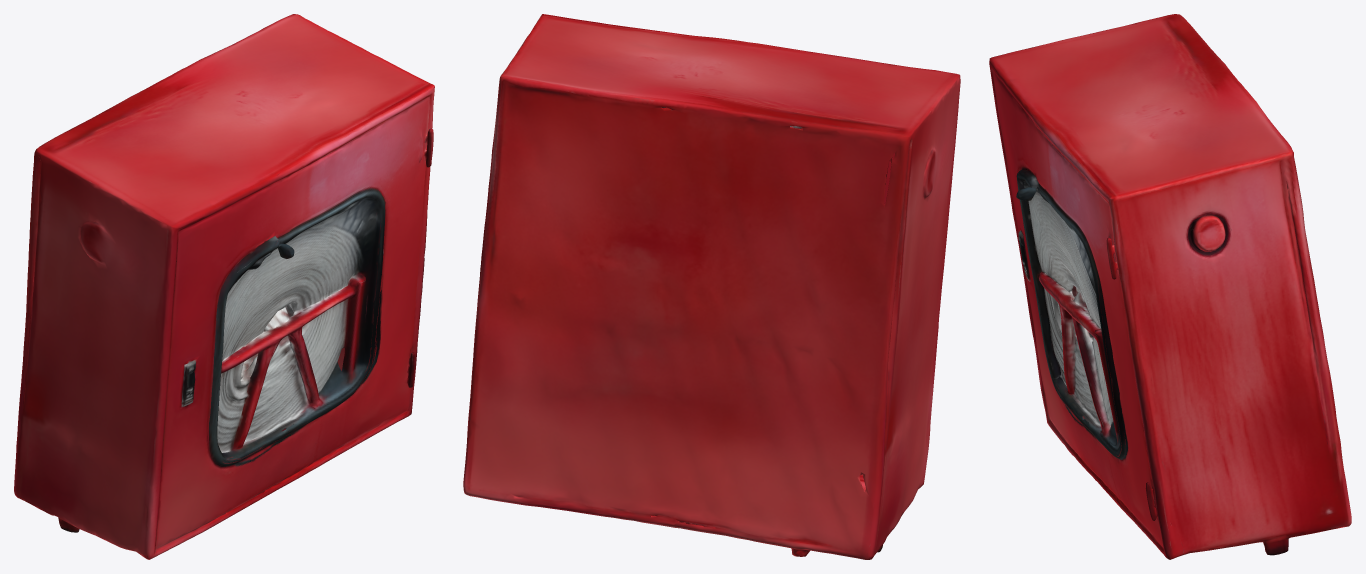
The picture shows the model from 3 angles, left to right: view 1: azimuth 30°, elevation 25°; view 2: azimuth 150°, elevation 25°; view 3: azimuth 270°, elevation 25°; orthographic projection. The views are drawn at different scales.
Bounding box in the file's own units: 0.8868 × 0.92 × 0.7294.
1 material, 1 textured.
